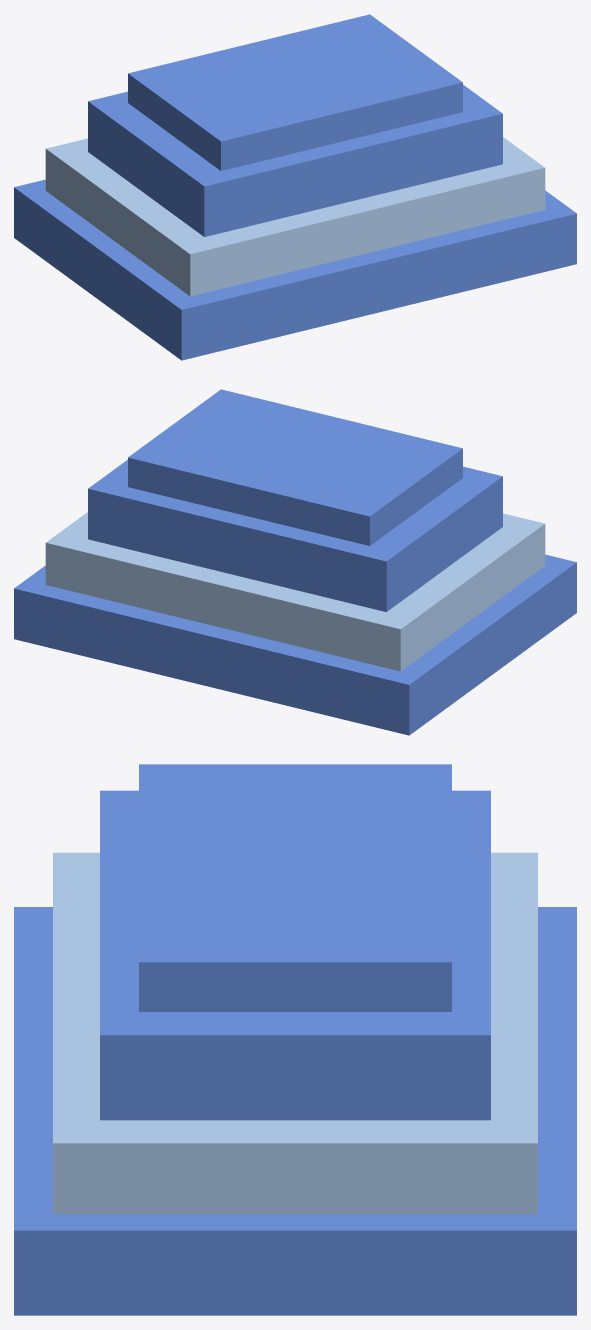
The model's file is patinador_saia.glb.
3 renders of one model, top to bottom at view 1: azimuth 30°, elevation 25°; view 2: azimuth 150°, elevation 25°; view 3: azimuth 270°, elevation 25°, orthographic. The views are drawn at different scales.
Parts seen in each view (by area): view 1: patinador_saia; view 2: patinador_saia; view 3: patinador_saia.
Boxes of the visible parts, left/top/right/bottom form: patinador_saia: left=14, top=14, right=576, bottom=360; patinador_saia: left=14, top=389, right=576, bottom=735; patinador_saia: left=14, top=764, right=576, bottom=1315.
Bounding box in the file's own units: 0.98 × 0.41 × 0.72.
